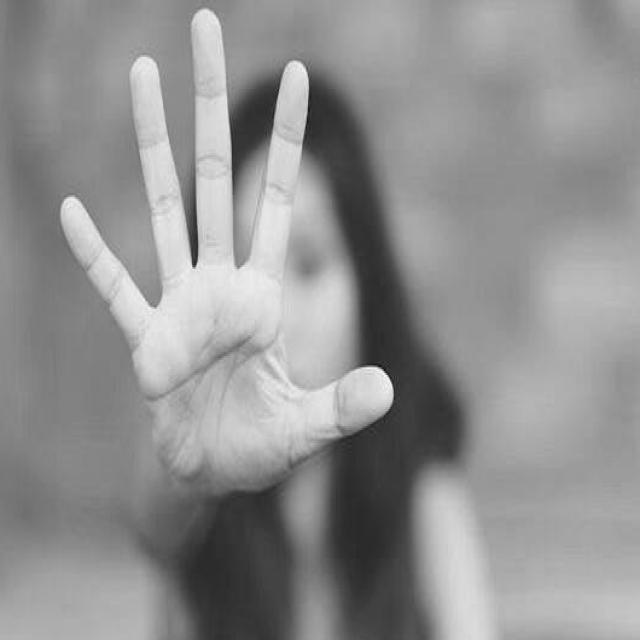stop: (57, 2, 398, 507)
